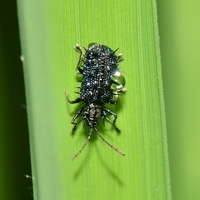insect: (66, 43, 125, 159)
